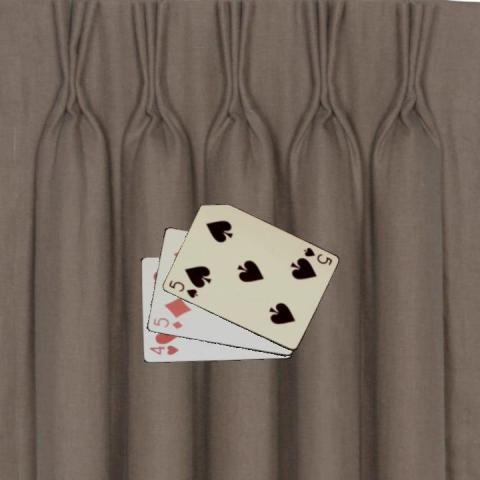4h: (147, 344, 180, 357)
5d: (150, 314, 183, 330)
5s: (300, 244, 333, 267), (166, 278, 199, 300)
